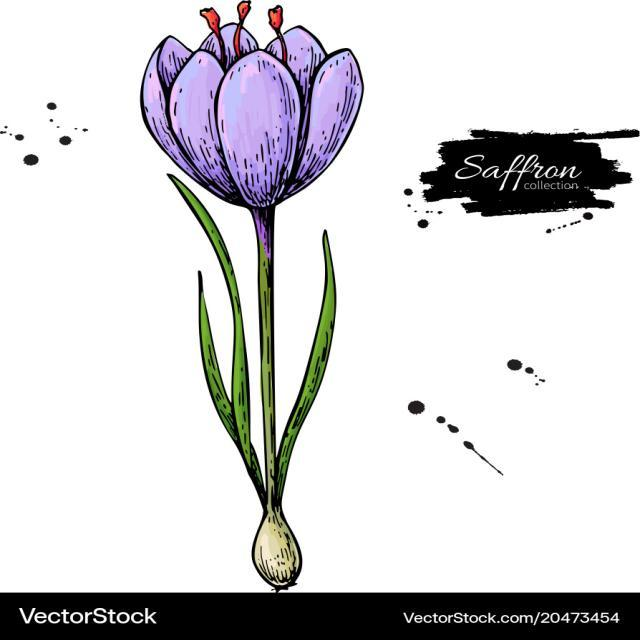Flower: (136, 20, 367, 214)
stigma: (198, 4, 229, 58), (228, 0, 260, 51), (266, 1, 296, 48)
